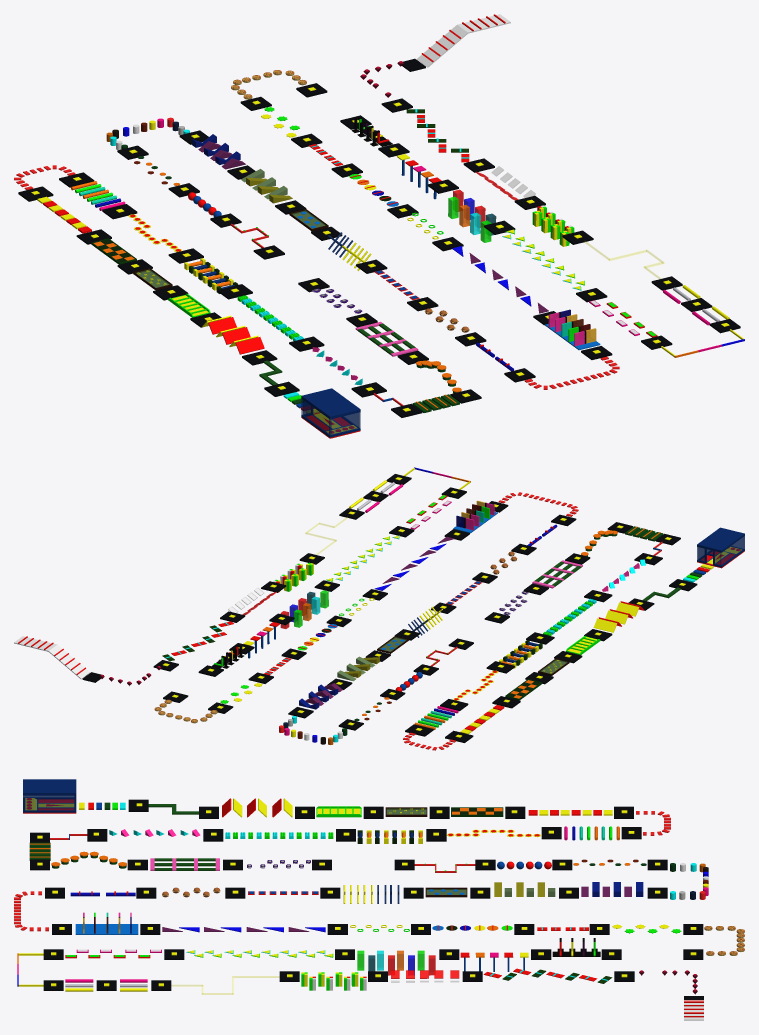
Rendered from MapObby.obj.
3 views of the same model, one above another, from view 1: azimuth 30°, elevation 25°; view 2: azimuth 150°, elevation 25°; view 3: azimuth 270°, elevation 25° (orthographic). The views are drawn at different scales.
Visible parts, largest first — view 1: Part401, Part4; view 2: Part401, Part4; view 3: Part412, Part87, Part401.
Part boxes in pixels (left/top/right/bottom): Part401: left=304, top=389, right=358, bottom=415; Part4: left=416, top=25, right=467, bottom=67; Part401: left=699, top=528, right=741, bottom=549; Part4: left=48, top=645, right=89, bottom=679; Part412: left=23, top=795, right=76, bottom=810; Part87: left=75, top=924, right=138, bottom=934; Part401: left=25, top=780, right=74, bottom=792.
Bounding box in the file's own units: 553 × 43.31 × 703.
Materials: 76 (4 with a texture image).
